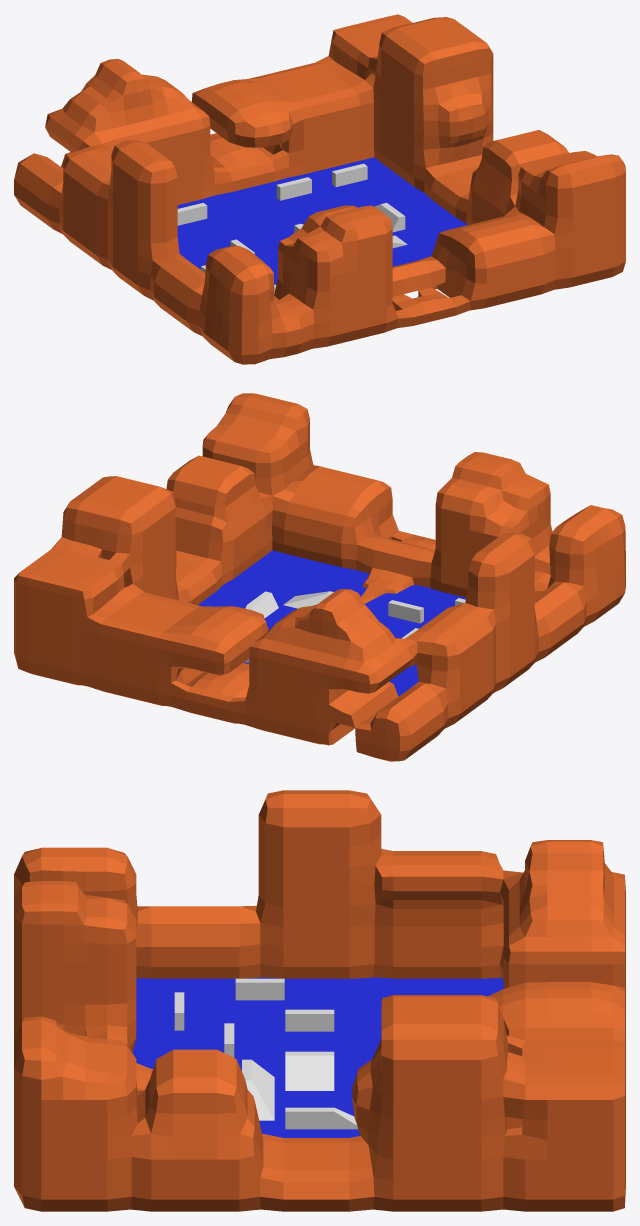
File: arena_level2.glb
3 renders of one model, top to bottom at view 1: azimuth 30°, elevation 25°; view 2: azimuth 150°, elevation 25°; view 3: azimuth 270°, elevation 25°, orthographic. The views are drawn at different scales.
Parts seen in each view (by area): view 1: LEVEL, GROUND, Wall.001, Wall, Wall.002; view 2: LEVEL, GROUND, Wall.007, Wall.005; view 3: LEVEL, GROUND, Wall.004, Wall.005, Wall.006, Wall.003, Wall.008.
Part boxes in pixels (box(x1,y1,x2,y2)): LEVEL: box(14, 14, 625, 364); GROUND: box(177, 157, 467, 284); Wall.001: box(276, 177, 311, 200); Wall: box(332, 163, 367, 186); Wall.002: box(177, 202, 207, 225); LEVEL: box(14, 393, 625, 761); GROUND: box(198, 550, 465, 696); Wall.007: box(388, 600, 423, 623); Wall.005: box(245, 591, 278, 618); LEVEL: box(14, 790, 625, 1211); GROUND: box(132, 977, 503, 1137); Wall.004: box(285, 1051, 334, 1090); Wall.005: box(285, 1107, 357, 1129); Wall.006: box(242, 1059, 274, 1120); Wall.003: box(285, 1009, 334, 1031); Wall.008: box(235, 978, 284, 1000).
Size of the model in its own units: 250 by 83.22 by 250.
